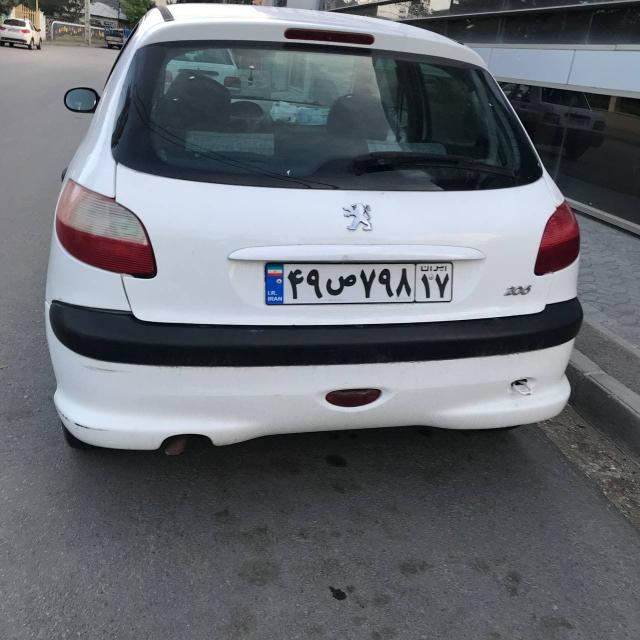Plates: (265, 261, 453, 304)
